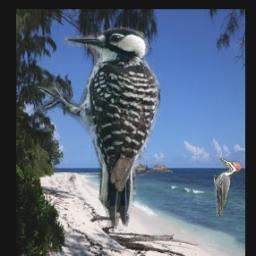Woodpecker: (31, 27, 164, 226), (214, 159, 241, 217)
